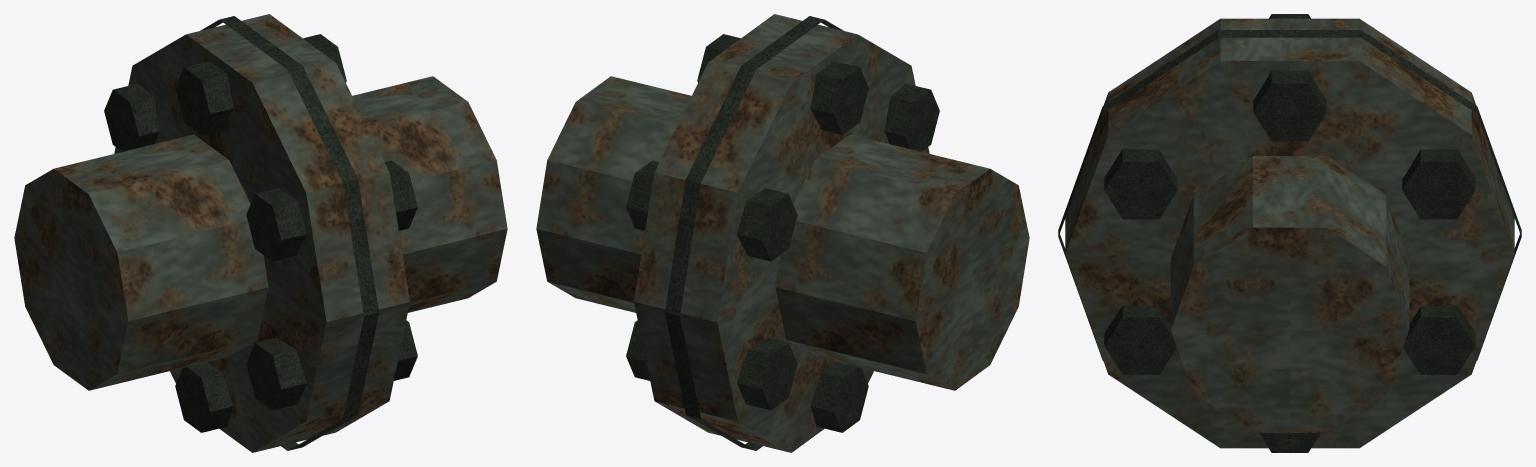
Rendered from SM_Pipe_Flange.fbx.
3 views of the same model, side by side, from view 1: azimuth 30°, elevation 25°; view 2: azimuth 150°, elevation 25°; view 3: azimuth 270°, elevation 25° (orthographic). The views are drawn at different scales.
Parts seen in each view (by area): view 1: SM_Pipe_Flange; view 2: SM_Pipe_Flange; view 3: SM_Pipe_Flange.
Boxes of the visible parts, x1,y1,x2,y2 form: SM_Pipe_Flange: (14,14,507,452); SM_Pipe_Flange: (536,14,1029,452); SM_Pipe_Flange: (1058,14,1521,452).
Size of the model in its own units: 0.2 by 0.1921 by 0.202.
